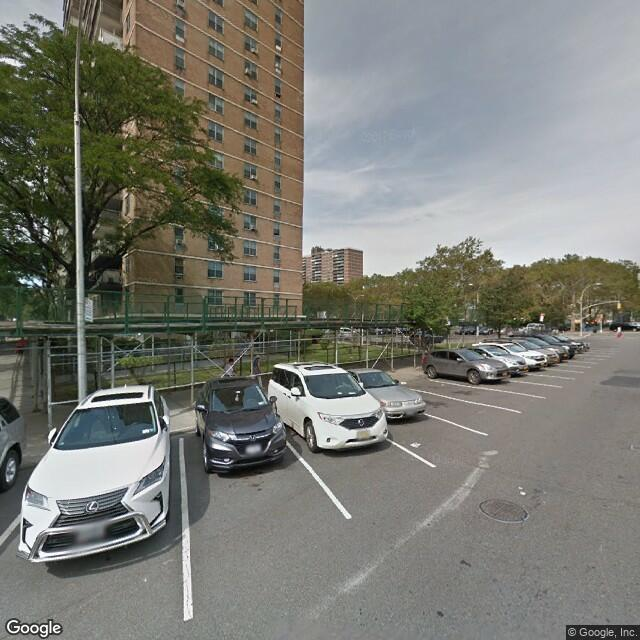litter: (405, 441, 424, 448)
